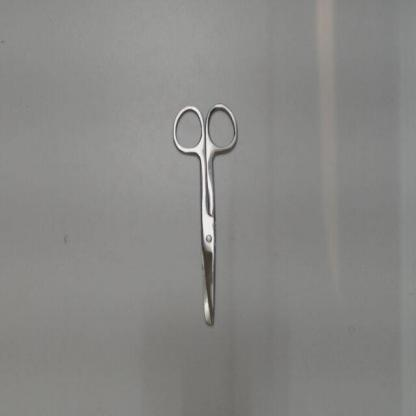Dressing Scissors: (165, 90, 247, 341)
